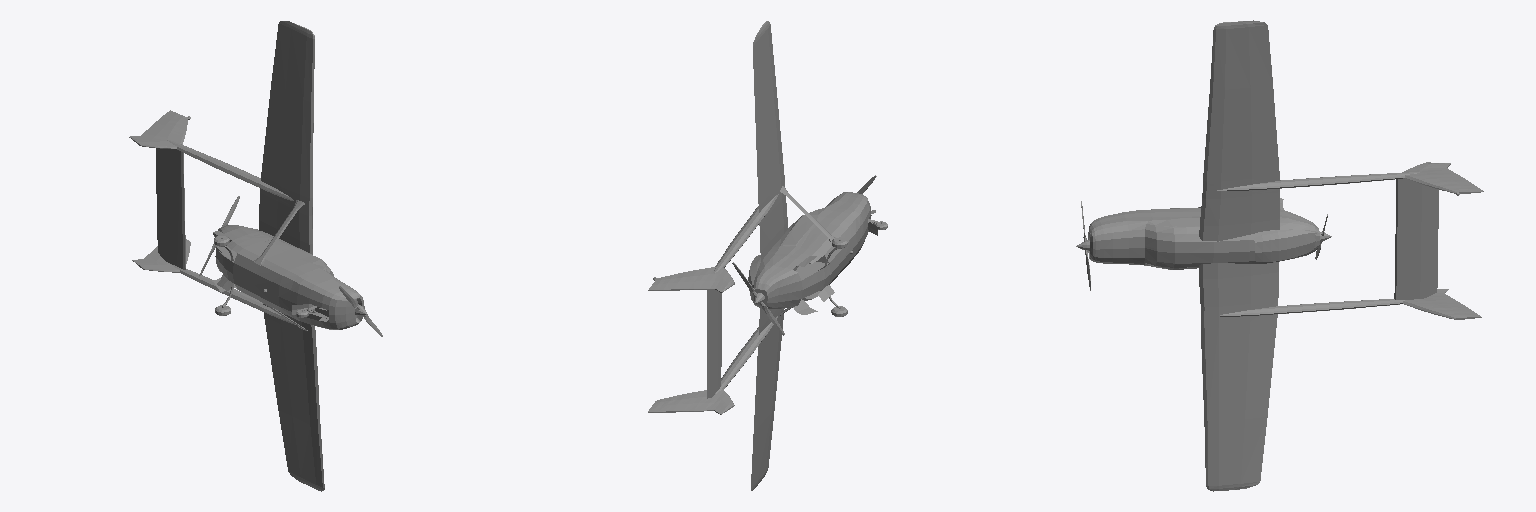
robot.urdf — cube.urdf:
<?xml version="0.0" ?> 
<robot name="cube.urdf"> 
<link name="legobrick"> 
<contact> 
<lateral_friction value="1.0"/>
<rolling_friction value="0.0"/>
<contact_cfm value="0.0"/>
<contact_erp value="1.0"/>
</contact> 
<inertial> 
<origin rpy="0 0 0" xyz="0.0 0.0 0.0"/> 
<mass value="0.1"/> 
<inertia ixx="1" ixy="0" ixz="0" iyy="1" iyz="0" izz="1"/> 
</inertial> 
<visual> 
<origin rpy="1.570796 0 0" xyz="-0.0011159723352318956 0.001921450501762958 5.052183346894486e-05"/> 
<geometry> 
<mesh filename="2c97e6b2c92913cac1ccec171a275967.obj" scale="1 1 1"/> 
</geometry> 
<material name="yellow"> 
<color rgba="0.6 0.6 0.6 1"/> 
</material> 
</visual> 
<collision> 
<origin rpy="1.570796 0 0" xyz="-0.0011159723352318956 0.001921450501762958 5.052183346894486e-05"/> 
<geometry> 
<mesh filename="2c97e6b2c92913cac1ccec171a275967_col.obj" scale="1 1 1"/> 
</geometry> 
</collision> 
</link> 
</robot>

--- What the picture shows (computed from the rendered views, not written in the file) ---
Views: 3 orthographic renders of the robot side by side, from view 1: azimuth 30°, elevation 25°; view 2: azimuth 150°, elevation 25°; view 3: azimuth 270°, elevation 25°.
Model cube.urdf with 1 links and 0 joints (none), rooted at legobrick, posed all joints at 0.
Links seen in each view (by area): view 1: legobrick; view 2: legobrick; view 3: legobrick.
Link boxes in pixels (x1,y1,x2,y2): legobrick: [129, 21, 382, 491]; legobrick: [648, 21, 887, 490]; legobrick: [1076, 20, 1483, 491].
Size in the robot's own frame: 0.0248 by 0.09 by 0.1136 metres.
1 mesh visuals loaded from 1 distinct referenced files (1 OBJ).